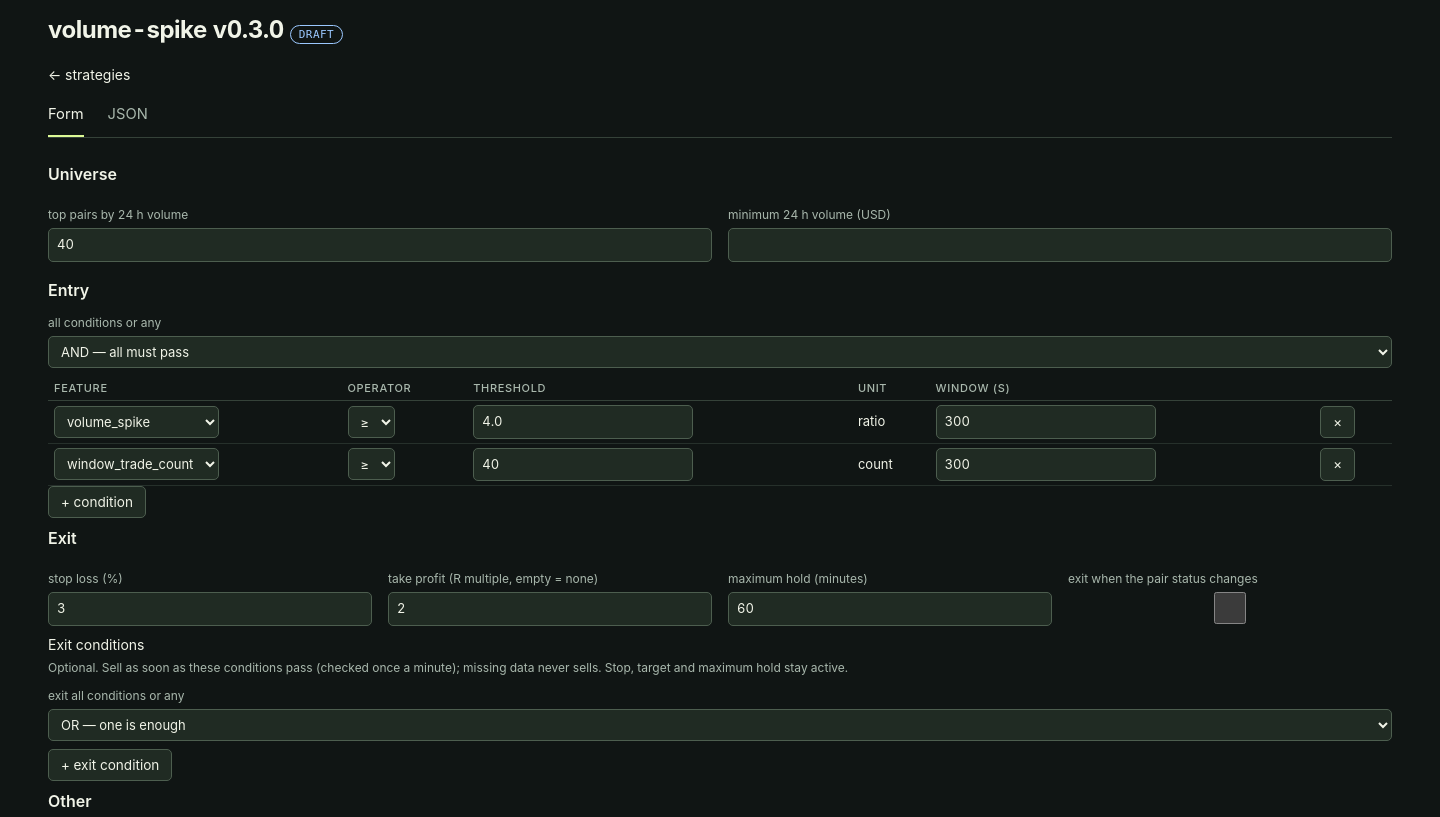
Scenario: StrategyEditor (UI-05) › adds an exit condition, removes it, and the exit has no empty block (ADR-024)
Later steps or results of the test are not shown.
Click the button "+ exit condition".
click(110, 765)  # box [48,749,172,781]
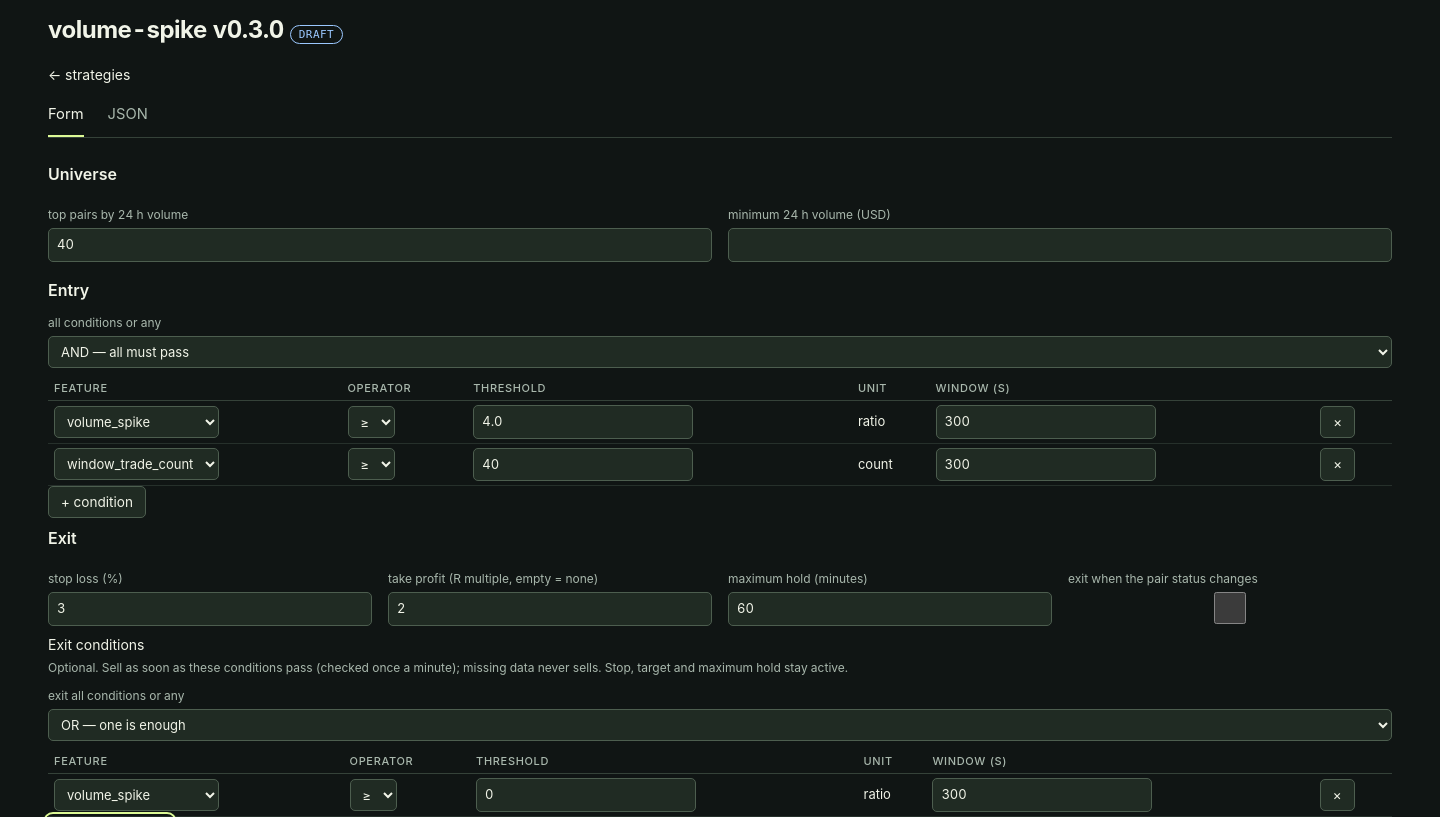
Select "spread_bps" in the dropdown named "exit feature 1" at {"x": 136, "y": 795}, box [54,779,219,811]
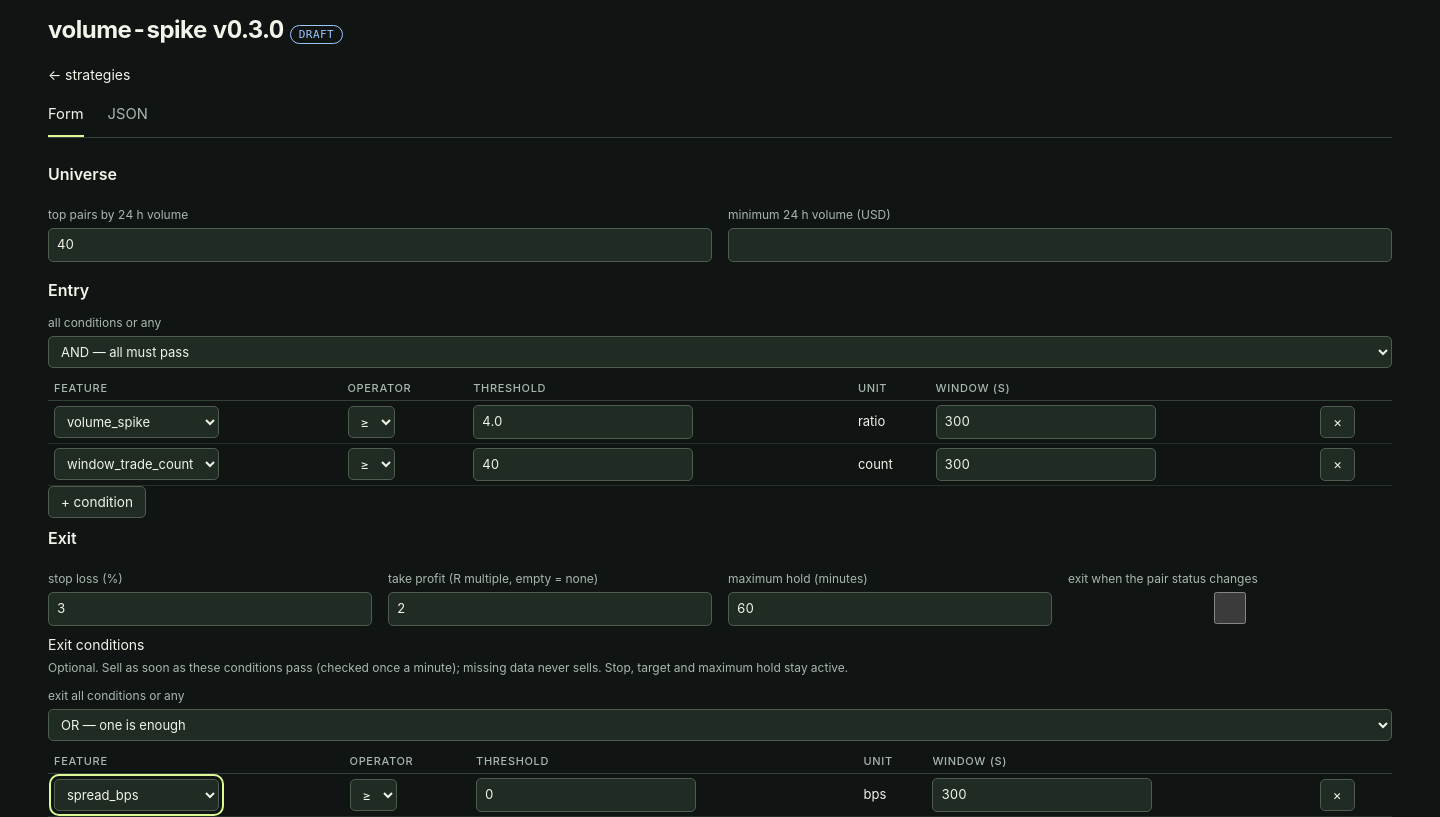
Expected: the text with test id "exit-unit-0" reads "bps", [864,786,886,802]
